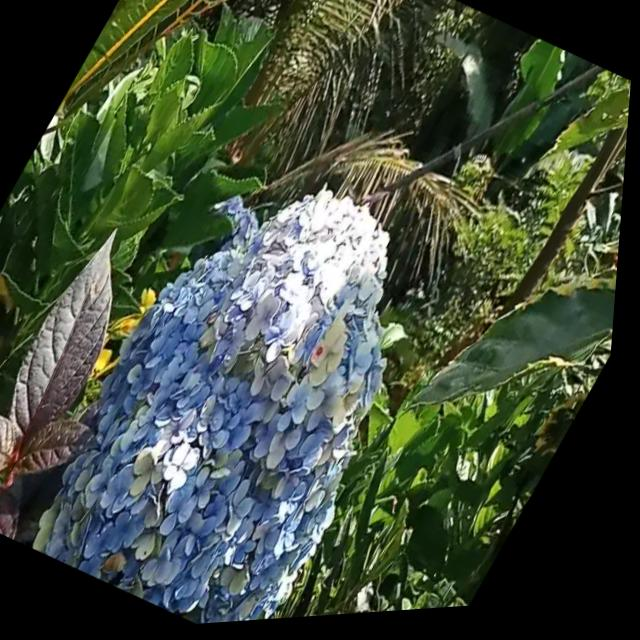Flower: (15, 126, 495, 637)
